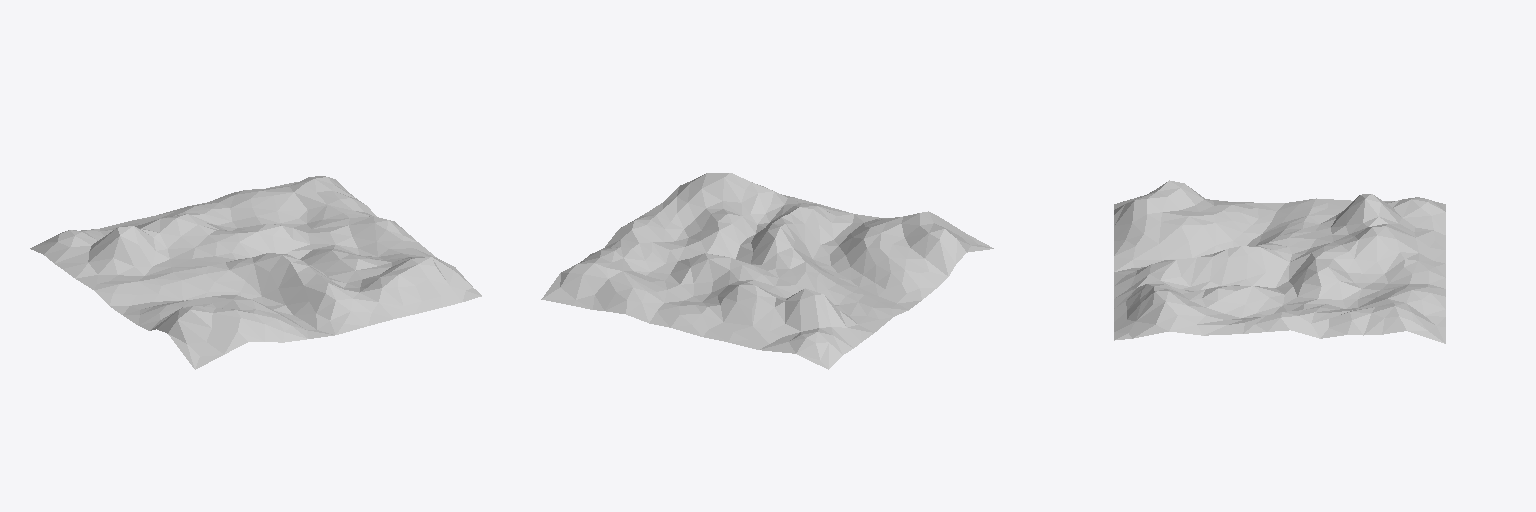
File: Terrain-NoFarm_lowpoly_0.005.obj
3 views of the same model, side by side, from view 1: azimuth 30°, elevation 25°; view 2: azimuth 150°, elevation 25°; view 3: azimuth 270°, elevation 25° (orthographic).
Visible parts, largest first — view 1: Terrain-NoFarm; view 2: Terrain-NoFarm; view 3: Terrain-NoFarm.
Boxes of the visible parts, box(x1,y1,x2,y2) form: Terrain-NoFarm: box(30, 176, 481, 369); Terrain-NoFarm: box(541, 173, 993, 369); Terrain-NoFarm: box(1114, 180, 1445, 343).
Size of the model in its own units: 300 by 36.62 by 300.